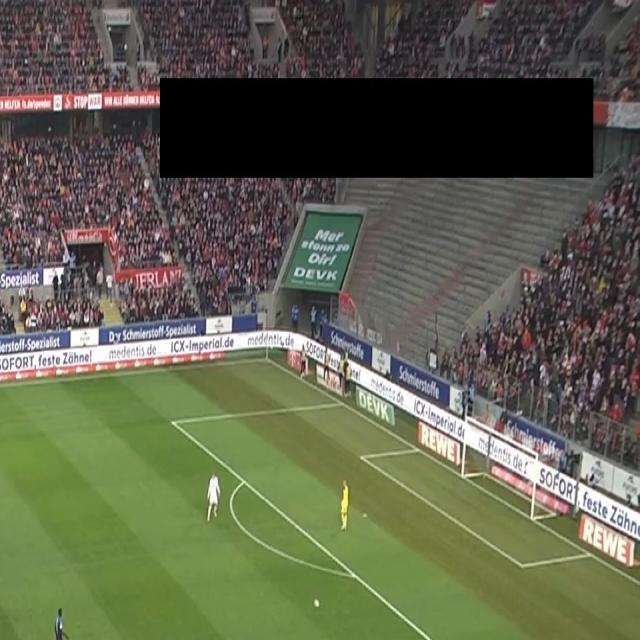ball: (313, 596, 321, 608)
